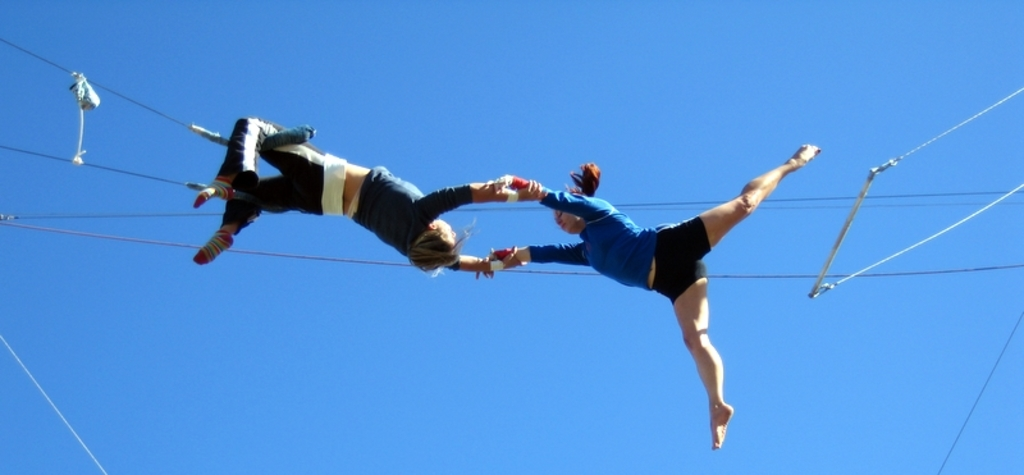Person: (476, 143, 821, 450), (192, 116, 546, 278)
